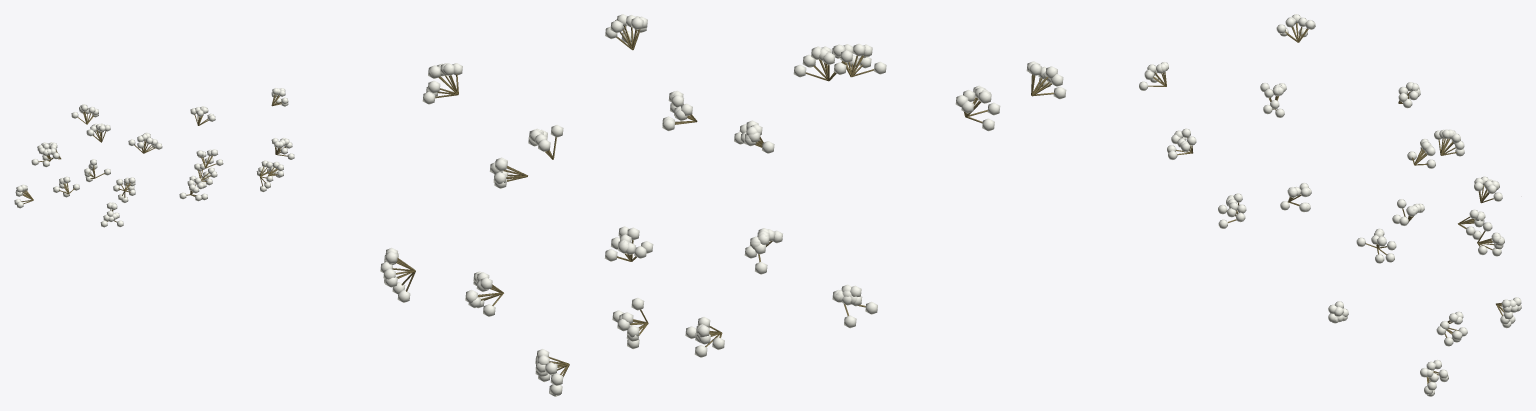
File: labradorteafruit.glb
3 renders of one model, left to right at view 1: azimuth 30°, elevation 25°; view 2: azimuth 150°, elevation 25°; view 3: azimuth 270°, elevation 25°, orthographic. The views are drawn at different scales.
Parts seen in each view (by area): view 1: labradorteafruit; view 2: labradorteafruit; view 3: labradorteafruit.
Part boxes in pixels (x1,y1,x2,y2): labradorteafruit: (14, 88, 294, 227); labradorteafruit: (380, 14, 1066, 396); labradorteafruit: (1139, 14, 1521, 396).
Size of the model in its own units: 0.9258 by 0.6415 by 0.7808.
1 material, 1 textured.
